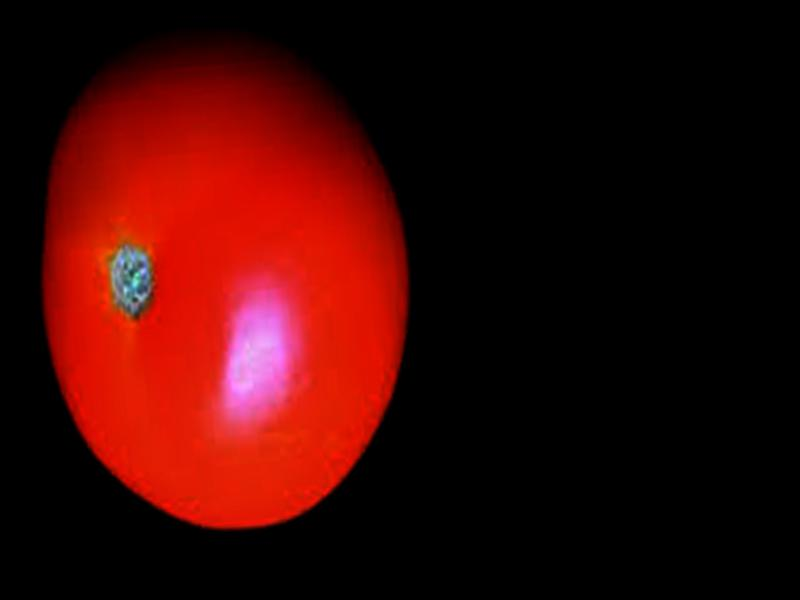Tomato: (18, 9, 431, 547)
